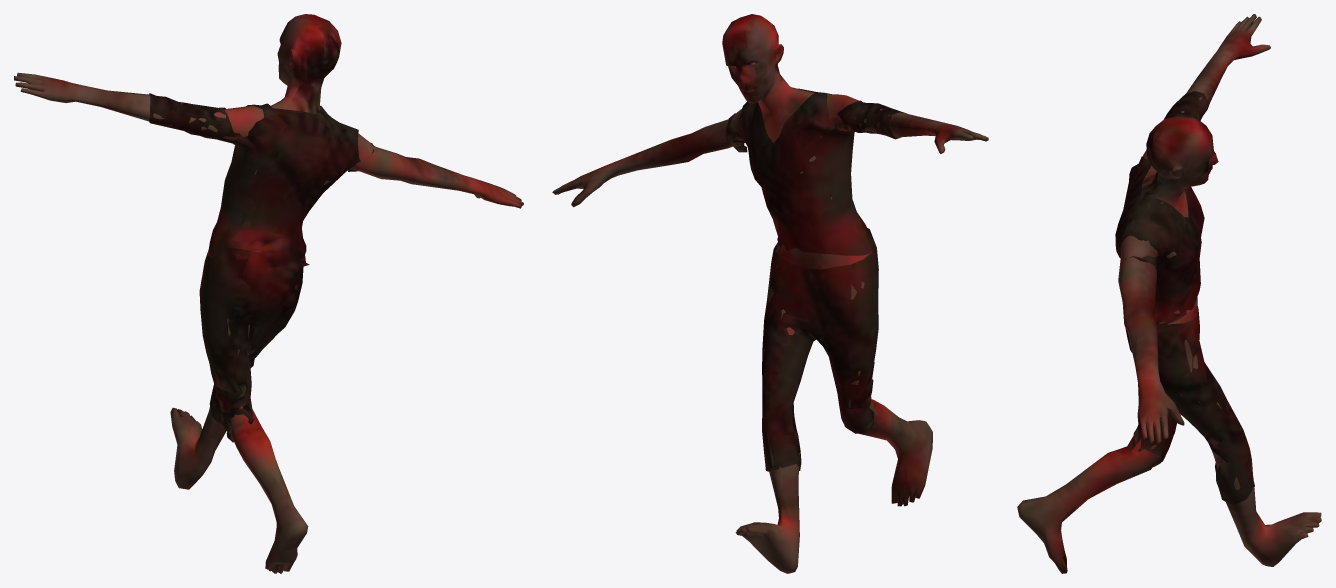
File: zombie_run_0.glb
The picture shows the model from 3 angles, left to right: view 1: azimuth 30°, elevation 25°; view 2: azimuth 150°, elevation 25°; view 3: azimuth 270°, elevation 25°; orthographic projection. The views are drawn at different scales.
Parts seen in each view (by area): view 1: CityDeadOutfit:Mesh1_pose; view 2: CityDeadOutfit:Mesh1_pose; view 3: CityDeadOutfit:Mesh1_pose.
Boxes of the visible parts, x1=… form: CityDeadOutfit:Mesh1_pose: x1=14, y1=14, x2=523, y2=573; CityDeadOutfit:Mesh1_pose: x1=552, y1=14, x2=988, y2=573; CityDeadOutfit:Mesh1_pose: x1=1017, y1=14, x2=1321, y2=573.
Size of the model in its own units: 1.72 by 1.75 by 0.9755.
Materials: 3 (2 with a texture image).
